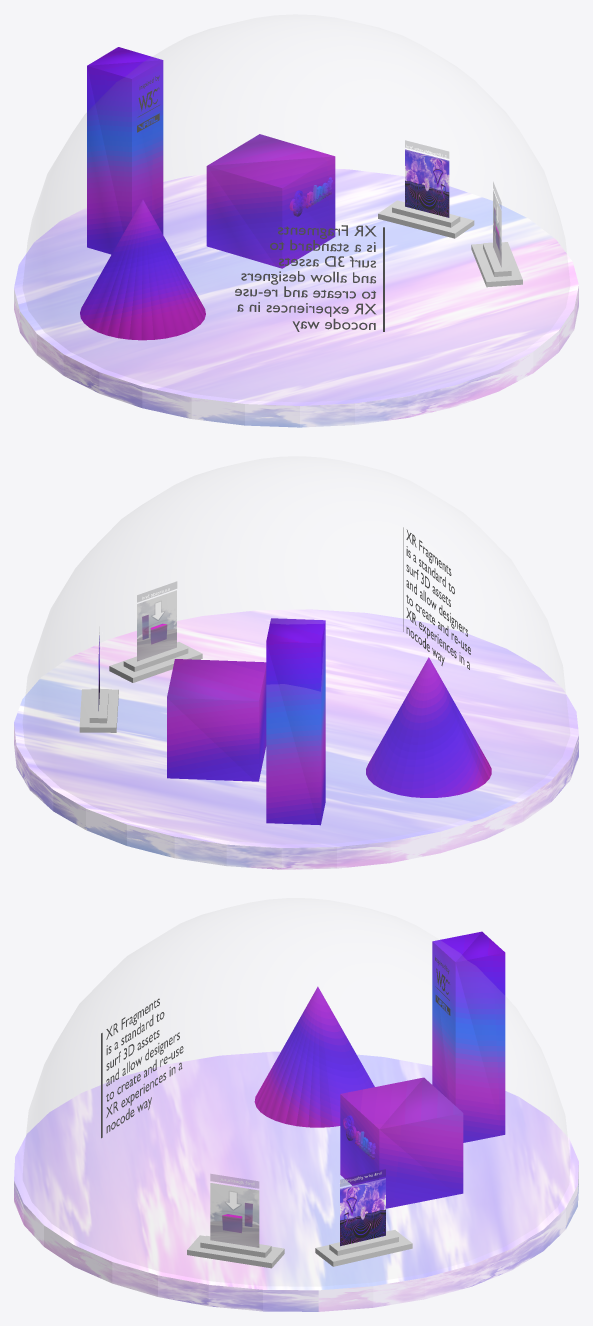
Rendered from example3.gltf.
3 views of the same model, one above another, from view 1: azimuth 30°, elevation 25°; view 2: azimuth 150°, elevation 25°; view 3: azimuth 270°, elevation 25° (orthographic).
Parts seen in each view (by area): view 1: floorstone, primitives, Text.001, door, step, step.001, Curve, door.001; view 2: floorstone, primitives, door.001, Text.001, step, step.001; view 3: floorstone, primitives, door.001, door, Text.001, step.001, step, Curve.
Boxes of the visible parts, <box> form: floorstone: <box>14,168,578,427</box>; primitives: <box>80,47,335,340</box>; Text.001: <box>235,225,376,331</box>; door: <box>405,149,449,217</box>; step: <box>378,200,474,238</box>; step.001: <box>471,242,522,287</box>; Curve: <box>289,177,332,216</box>; door.001: <box>493,190,501,267</box>; floorstone: <box>14,609,578,869</box>; primitives: <box>167,618,491,825</box>; door.001: <box>137,590,176,661</box>; Text.001: <box>406,529,470,669</box>; step: <box>79,688,118,732</box>; step.001: <box>109,642,202,682</box>; floorstone: <box>14,1051,578,1311</box>; primitives: <box>254,931,505,1208</box>; door.001: <box>210,1183,259,1247</box>; door: <box>340,1178,385,1246</box>; Text.001: <box>106,998,183,1133</box>; step.001: <box>187,1235,284,1268</box>; step: <box>315,1230,412,1266</box>; Curve: <box>343,1115,375,1159</box>.
Size of what is drawn, in the model's own units: 20.66 by 10.86 by 20.66.
Materials: 8 (3 with a texture image).
